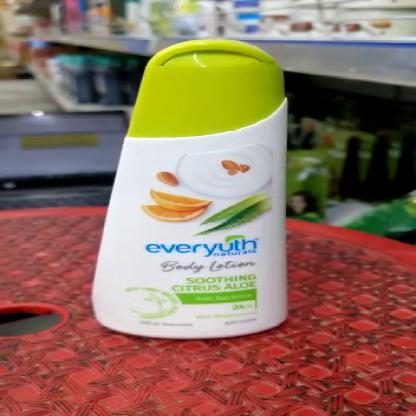Everyuth Naturals Body Lotion Soothing Citrus 200ml: (85, 34, 297, 342)
